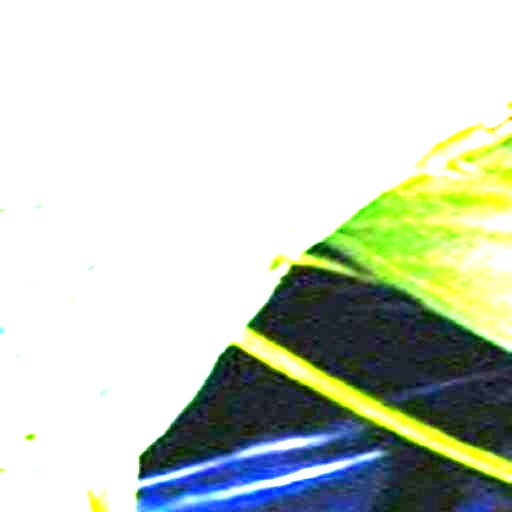Angular Leafspot: (0, 98, 332, 492)
